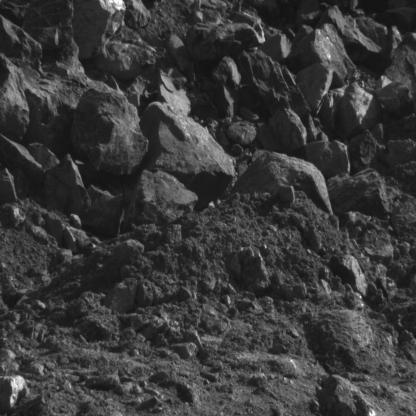stone: (139, 103, 235, 209), (71, 88, 149, 175), (230, 151, 332, 214), (316, 6, 402, 73), (123, 170, 198, 232), (287, 30, 349, 90), (72, 0, 126, 61), (327, 168, 392, 218), (42, 155, 91, 216), (0, 130, 43, 194), (335, 84, 384, 140), (0, 55, 29, 143), (92, 40, 154, 81), (319, 374, 376, 416), (80, 185, 124, 236), (320, 24, 356, 78), (297, 63, 333, 117), (0, 14, 42, 60), (305, 140, 351, 181), (269, 106, 308, 153), (329, 255, 368, 298), (157, 69, 191, 115), (240, 247, 271, 294), (374, 81, 416, 115), (103, 277, 138, 313), (350, 130, 381, 170), (28, 142, 60, 179), (362, 231, 392, 266), (355, 16, 388, 45), (213, 55, 240, 90), (260, 34, 292, 62), (213, 84, 239, 117), (167, 35, 189, 72), (122, 0, 151, 28), (295, 0, 324, 27), (387, 139, 416, 166), (257, 121, 282, 151), (115, 239, 145, 262), (234, 27, 265, 49), (226, 122, 256, 143), (0, 167, 17, 204), (0, 206, 26, 228), (291, 25, 313, 48), (14, 171, 30, 199), (375, 76, 392, 90)
